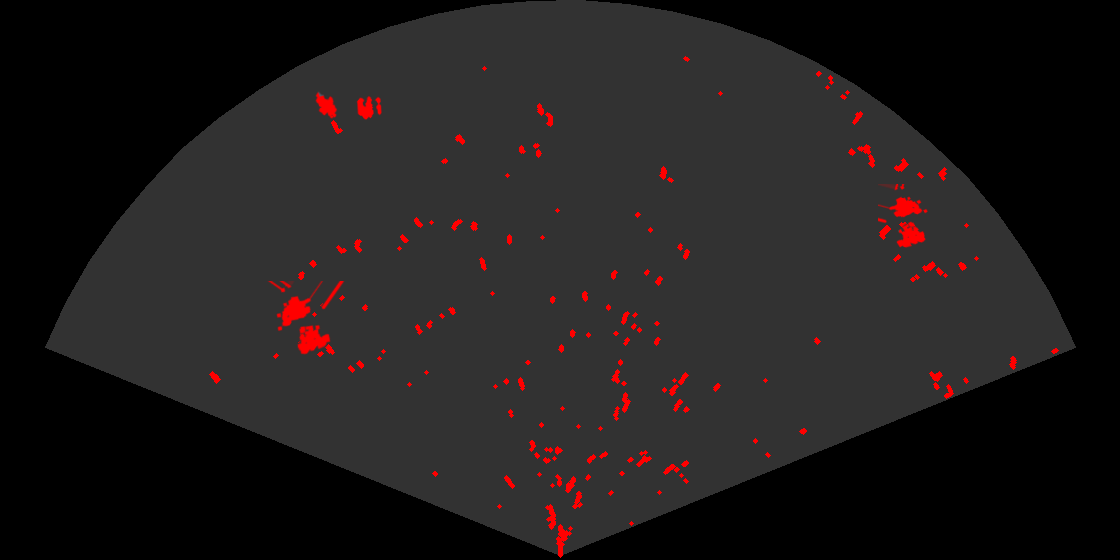AUV: (314, 91, 339, 120)
ball: (355, 94, 383, 121)
cage: (266, 281, 346, 356), (878, 184, 929, 249)
